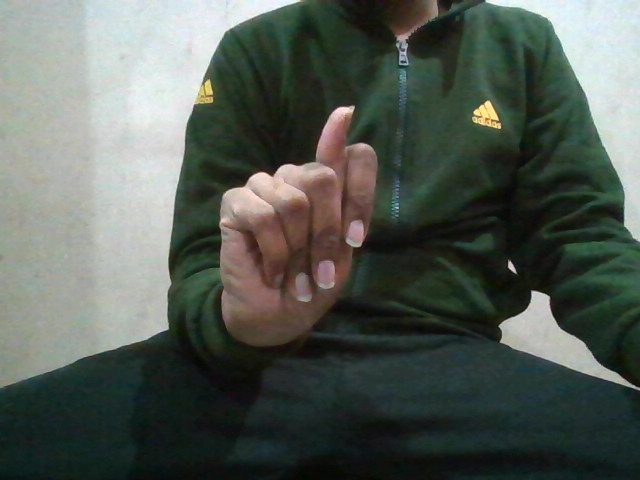T: (222, 103, 387, 333)
